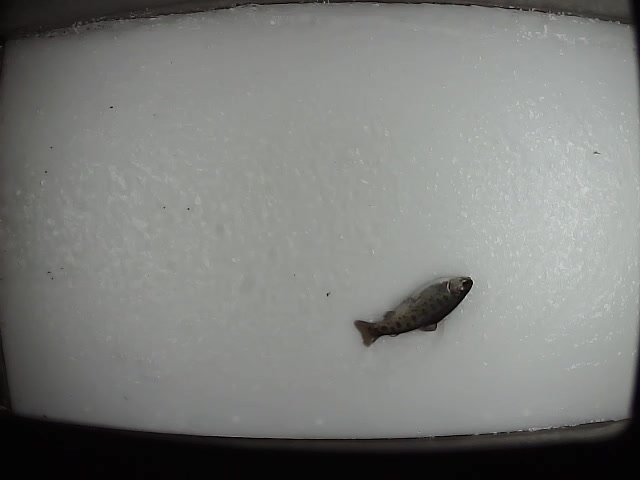fish: (352, 271, 475, 349)
